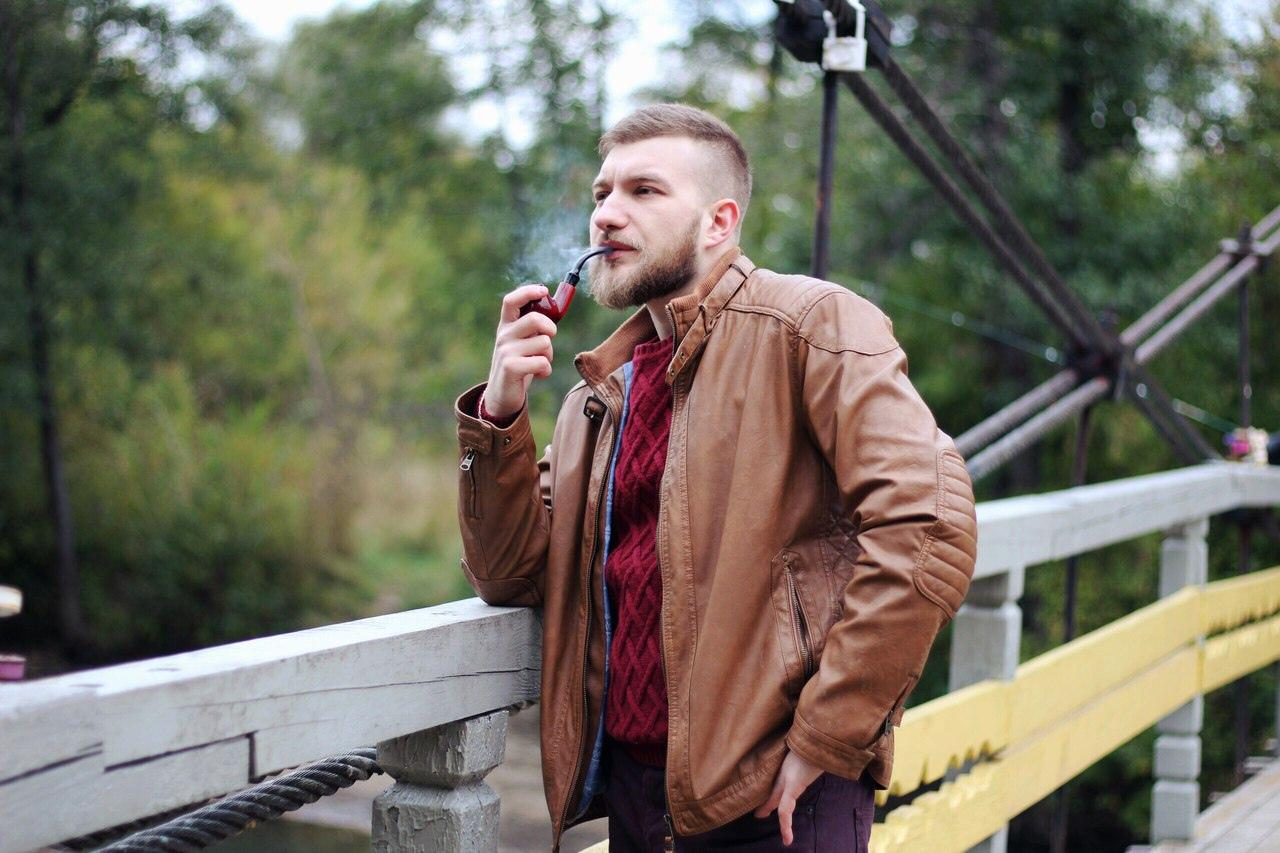trubka: (520, 247, 614, 323)
